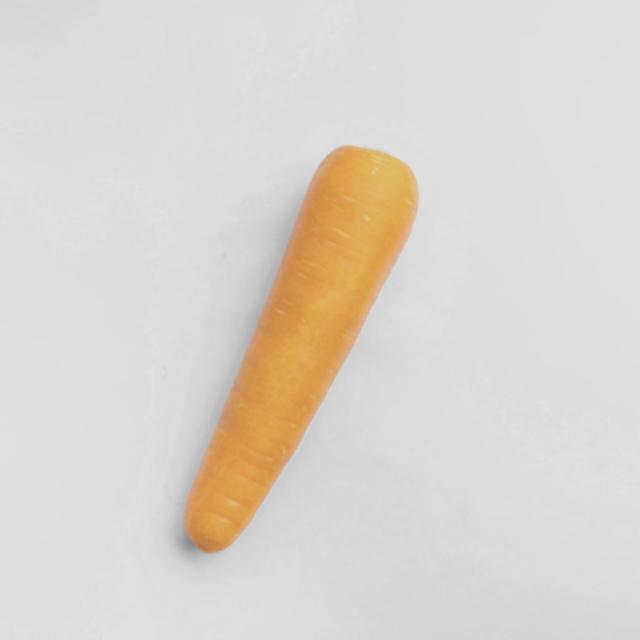carrot: (185, 146, 418, 552)
